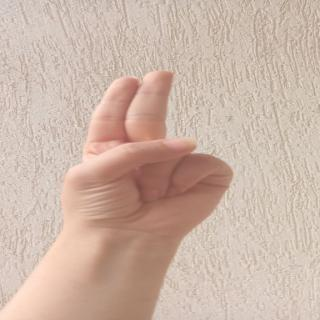TA: (46, 59, 265, 246)
